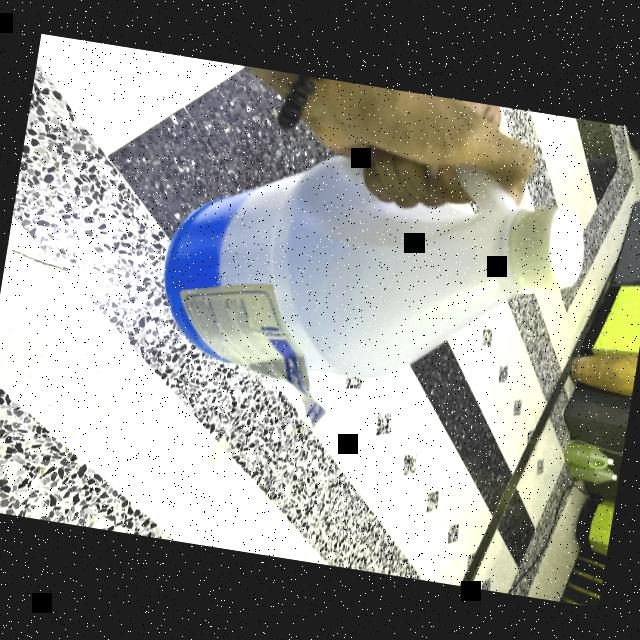chemical_plastic_gallon: (151, 81, 596, 444), (557, 426, 615, 472), (568, 456, 616, 489)
